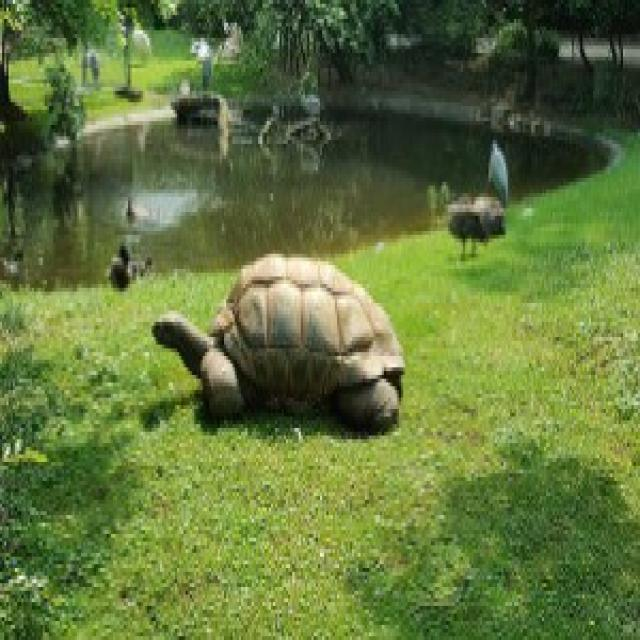Sea turtle: (146, 228, 436, 457)
